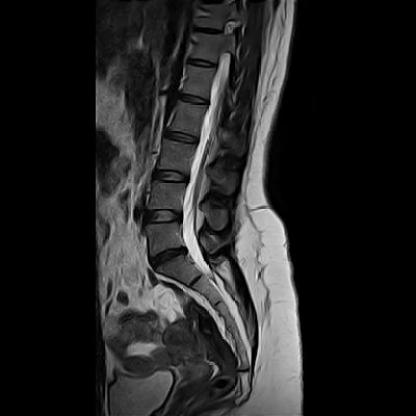Disc Bulgerotation: (144, 207, 184, 225)
Disc Protrusionrotation: (146, 247, 189, 265)
